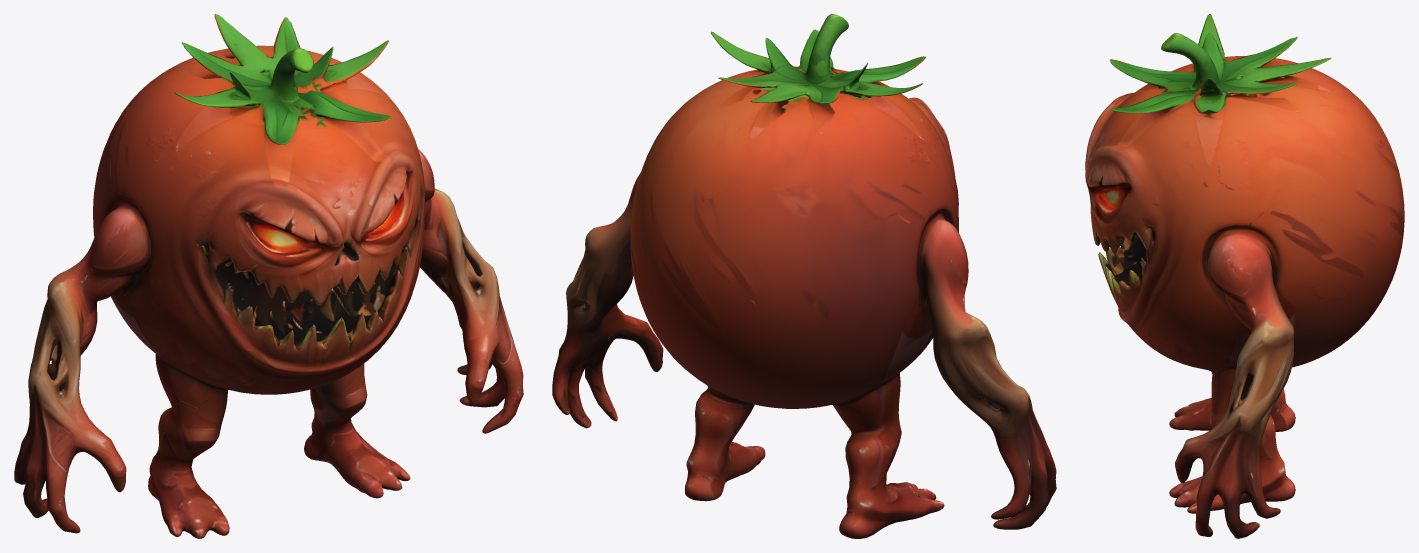
The model's file is pumpkin.fbx.
3 views of the same model, side by side, from view 1: azimuth 30°, elevation 25°; view 2: azimuth 150°, elevation 25°; view 3: azimuth 270°, elevation 25° (orthographic). The views are drawn at different scales.
Visible parts, largest first — view 1: model; view 2: model; view 3: model.
Part boxes in pixels (x1,y1,x2,y2): model: (14,14,523,538); model: (552,14,1056,538); model: (1085,14,1404,538).
Bounding box in the file's own units: 189 × 171 × 115.
1 material, 1 textured.
